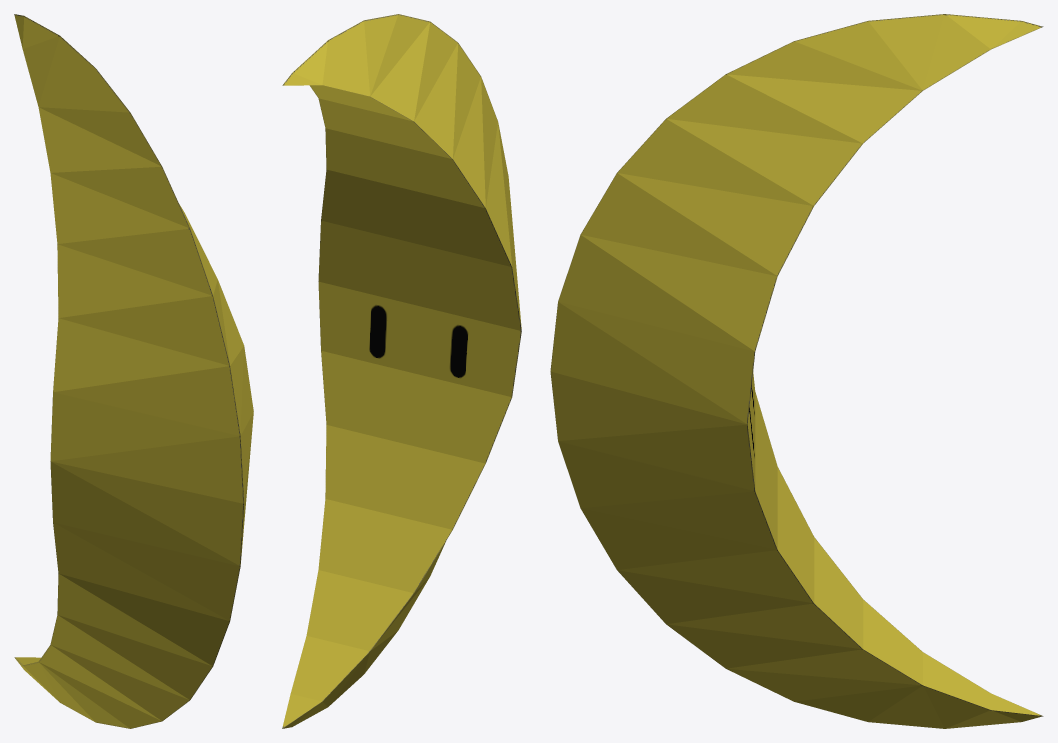
File: moon.obj
The picture shows the model from 3 angles, left to right: view 1: azimuth 30°, elevation 25°; view 2: azimuth 150°, elevation 25°; view 3: azimuth 270°, elevation 25°; orthographic projection. The views are drawn at different scales.
Size of the model in its own units: 0.638 by 2 by 1.25.
